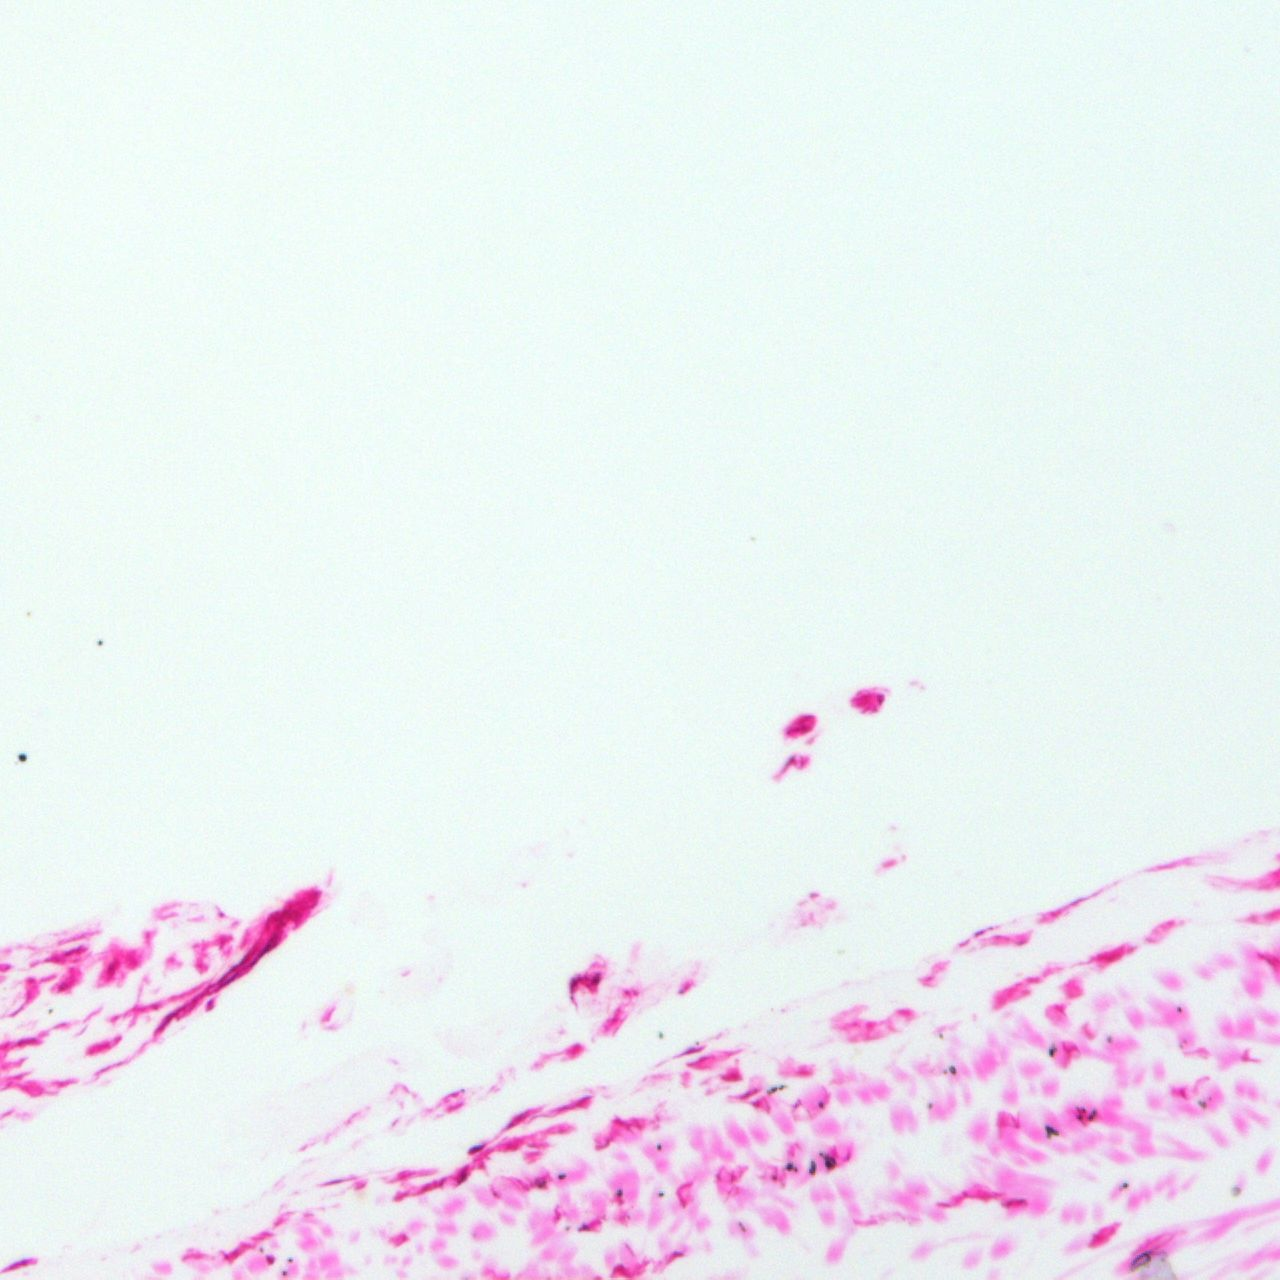dust: (765, 1081, 787, 1095), (1044, 1124, 1061, 1139), (806, 1159, 817, 1176), (824, 1155, 835, 1169), (18, 753, 28, 762), (1048, 1046, 1057, 1056), (1197, 1099, 1208, 1108), (558, 1172, 568, 1180), (784, 1160, 792, 1170), (948, 1065, 956, 1075), (617, 1189, 624, 1198), (281, 1269, 290, 1276), (656, 1192, 665, 1199), (656, 1032, 663, 1040), (1085, 1114, 1094, 1121), (1075, 1114, 1083, 1121), (565, 1224, 571, 1233), (286, 1257, 293, 1264), (1121, 1182, 1128, 1189), (656, 1143, 662, 1151), (1107, 1035, 1112, 1043), (257, 1247, 263, 1254), (818, 1101, 824, 1108), (926, 1102, 932, 1109), (937, 1032, 942, 1039), (47, 1008, 53, 1014), (942, 1069, 948, 1075), (794, 1167, 798, 1175), (1091, 1108, 1096, 1115), (1177, 1006, 1182, 1013), (97, 639, 102, 645), (26, 611, 30, 617), (818, 1151, 823, 1156)
nucleus-FG: (218, 945, 257, 983), (935, 1189, 1002, 1210), (247, 939, 275, 973), (152, 1005, 181, 1039), (553, 1094, 594, 1114), (1, 1254, 38, 1274), (212, 973, 240, 994), (505, 1108, 533, 1129), (1062, 1041, 1078, 1068), (676, 1044, 703, 1058), (438, 1089, 461, 1104), (223, 1246, 241, 1264), (64, 942, 88, 956), (610, 1262, 632, 1276), (444, 1099, 465, 1114), (1001, 1198, 1028, 1208), (788, 724, 811, 736), (467, 1142, 484, 1156), (738, 1087, 757, 1099), (107, 961, 116, 981), (16, 1037, 39, 1046), (457, 1169, 469, 1183), (56, 982, 72, 992), (874, 692, 884, 706), (438, 1175, 448, 1189), (590, 973, 600, 985), (205, 999, 215, 1012), (1092, 1233, 1099, 1248), (578, 1223, 590, 1231), (265, 1255, 274, 1264), (672, 1250, 682, 1257)
